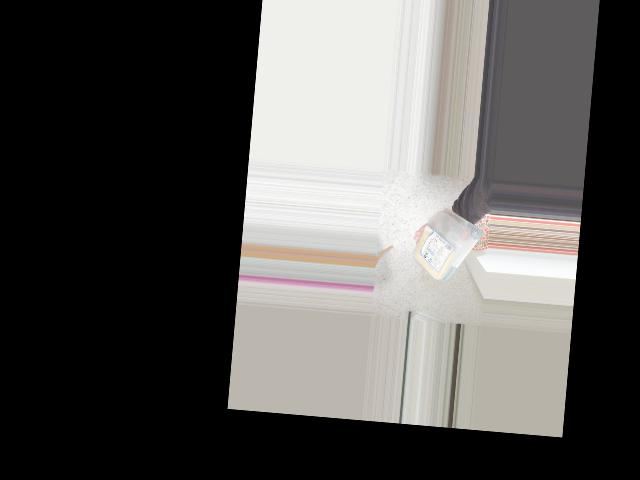cheese: (410, 206, 480, 287)
